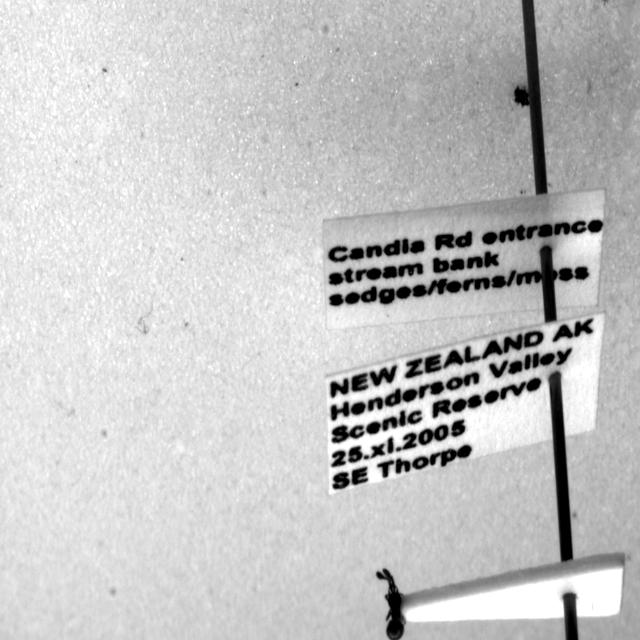typed_label: (326, 313, 605, 493), (324, 189, 605, 328)
